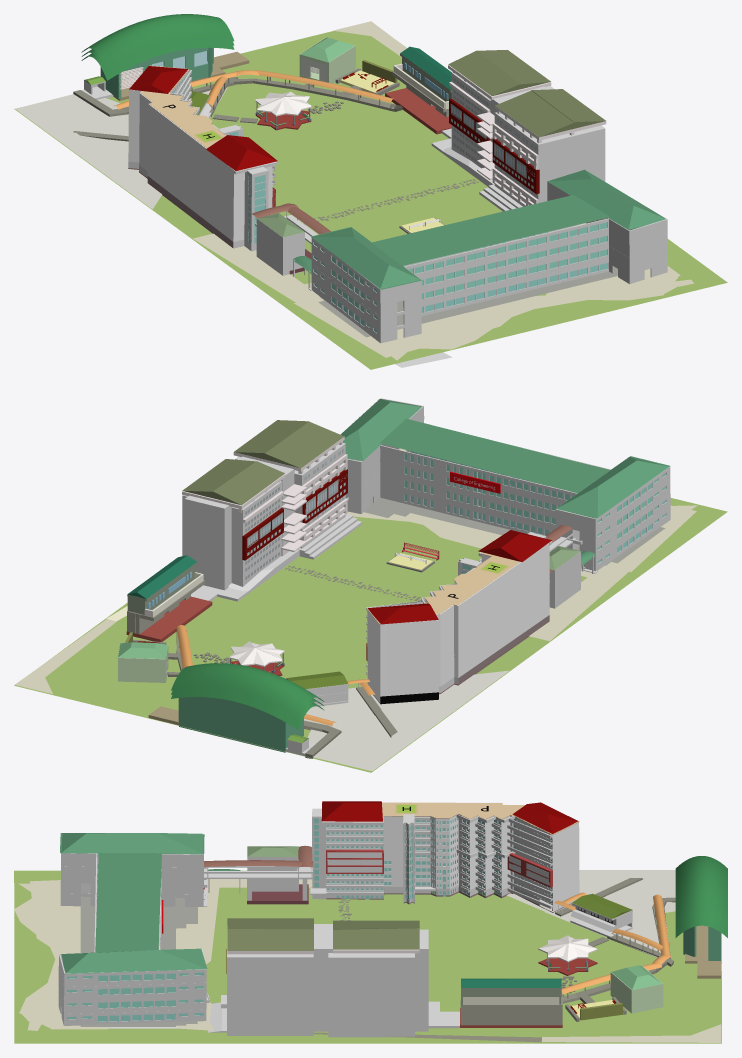
Rendered from new campus.glb.
The picture shows the model from 3 angles, top to bottom: view 1: azimuth 30°, elevation 25°; view 2: azimuth 150°, elevation 25°; view 3: azimuth 270°, elevation 25°; orthographic projection.
Visible parts, largest first — view 1: Plane.941, bubong to pre, Concrete 21, 4flr, 2flr, 3flr, Cube.045, SurfPatch.012, 1flr, Concrete 2, Cube.079, bubong ng en (+40 smaller); view 2: Plane.941, Concrete 21, bubong to pre, 4flr, Concrete 2, SurfPatch.012, Cube.252, 2flr, Cube.043, 3flr, 1flr, Cube.079 (+37 smaller); view 3: Plane.941, Cube.042, Cube.045, bubong to pre, Concrete 21, SurfPatch.012, 4flr, bubong ng en.001, bubong ng en, 3flr, Concrete 2, 2flr (+68 smaller).
Boxes of the visible parts, x1,y1,x2,y2 form: Plane.941: (14,31,727,369); bubong to pre: (372,195,609,265); Concrete 21: (15,94,161,209); 4flr: (311,180,667,303); 2flr: (311,218,667,330); 3flr: (311,195,667,316); Cube.045: (494,112,605,206); SurfPatch.012: (81,14,234,72); 1flr: (311,220,667,343); Concrete 2: (193,233,449,360); Cube.079: (495,89,605,137); bubong ng en: (311,227,420,288); Plane.941: (14,498,727,772); Concrete 21: (307,670,509,771); bubong to pre: (379,418,610,493); 4flr: (340,398,670,532); Concrete 2: (409,505,697,641); SurfPatch.012: (171,663,323,721); Cube.252: (179,681,285,752); 2flr: (345,450,670,559); Cube.043: (184,495,231,590); 3flr: (348,420,670,545); 1flr: (347,444,670,571); Cube.079: (234,420,344,468); Plane.941: (14,870,721,1043); Cube.042: (328,953,414,1037); Cube.045: (227,925,313,1035); bubong to pre: (95,853,161,952); Concrete 21: (506,870,675,925); SurfPatch.012: (675,856,727,929); 4flr: (58,851,206,986); bubong ng en.001: (61,948,207,974); bubong ng en: (61,833,203,854); 3flr: (58,852,206,1000); Concrete 2: (18,879,312,964); 2flr: (58,861,206,1013).
Size of the model in its own units: 61.82 by 17.47 by 108.
